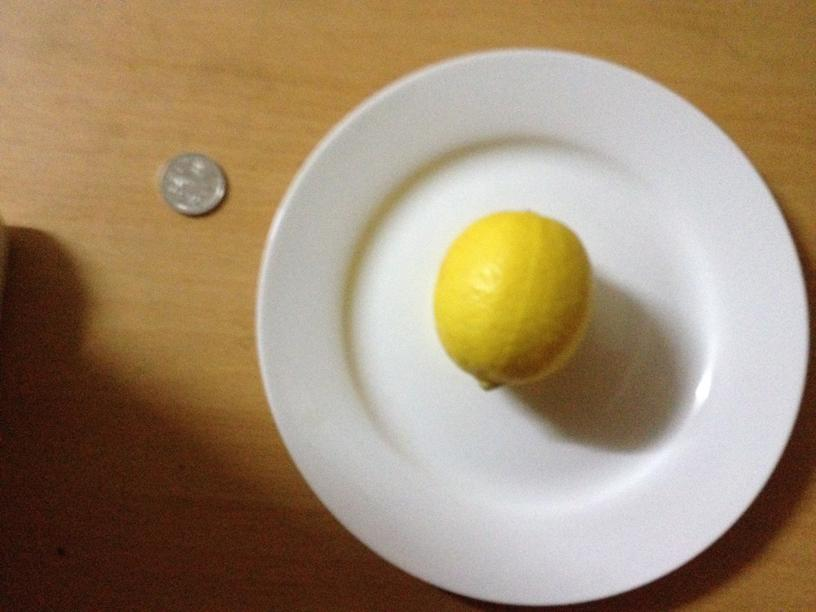coin: (155, 149, 225, 218)
lemon: (437, 208, 590, 385)
